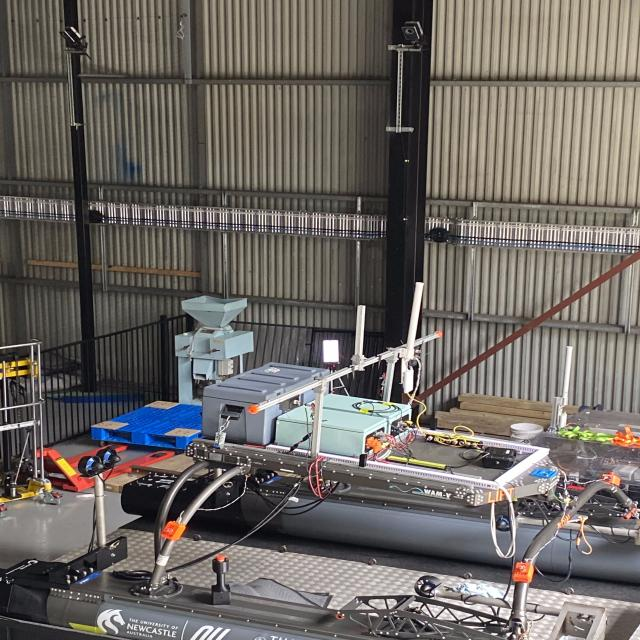matrix: (318, 336, 347, 364)
